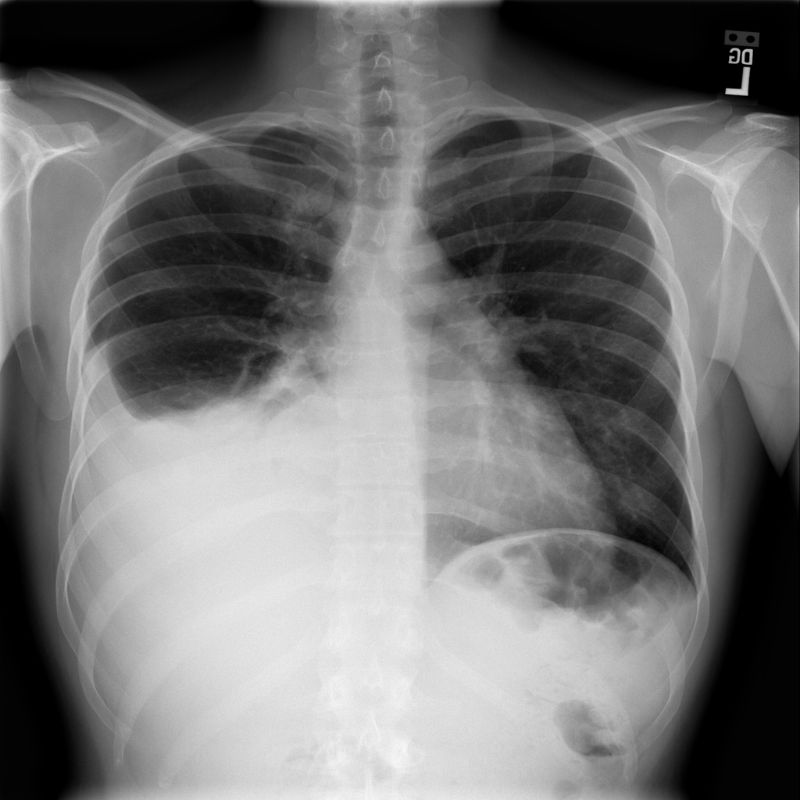PLEURAL EFFUSION: (75, 349, 243, 592)
